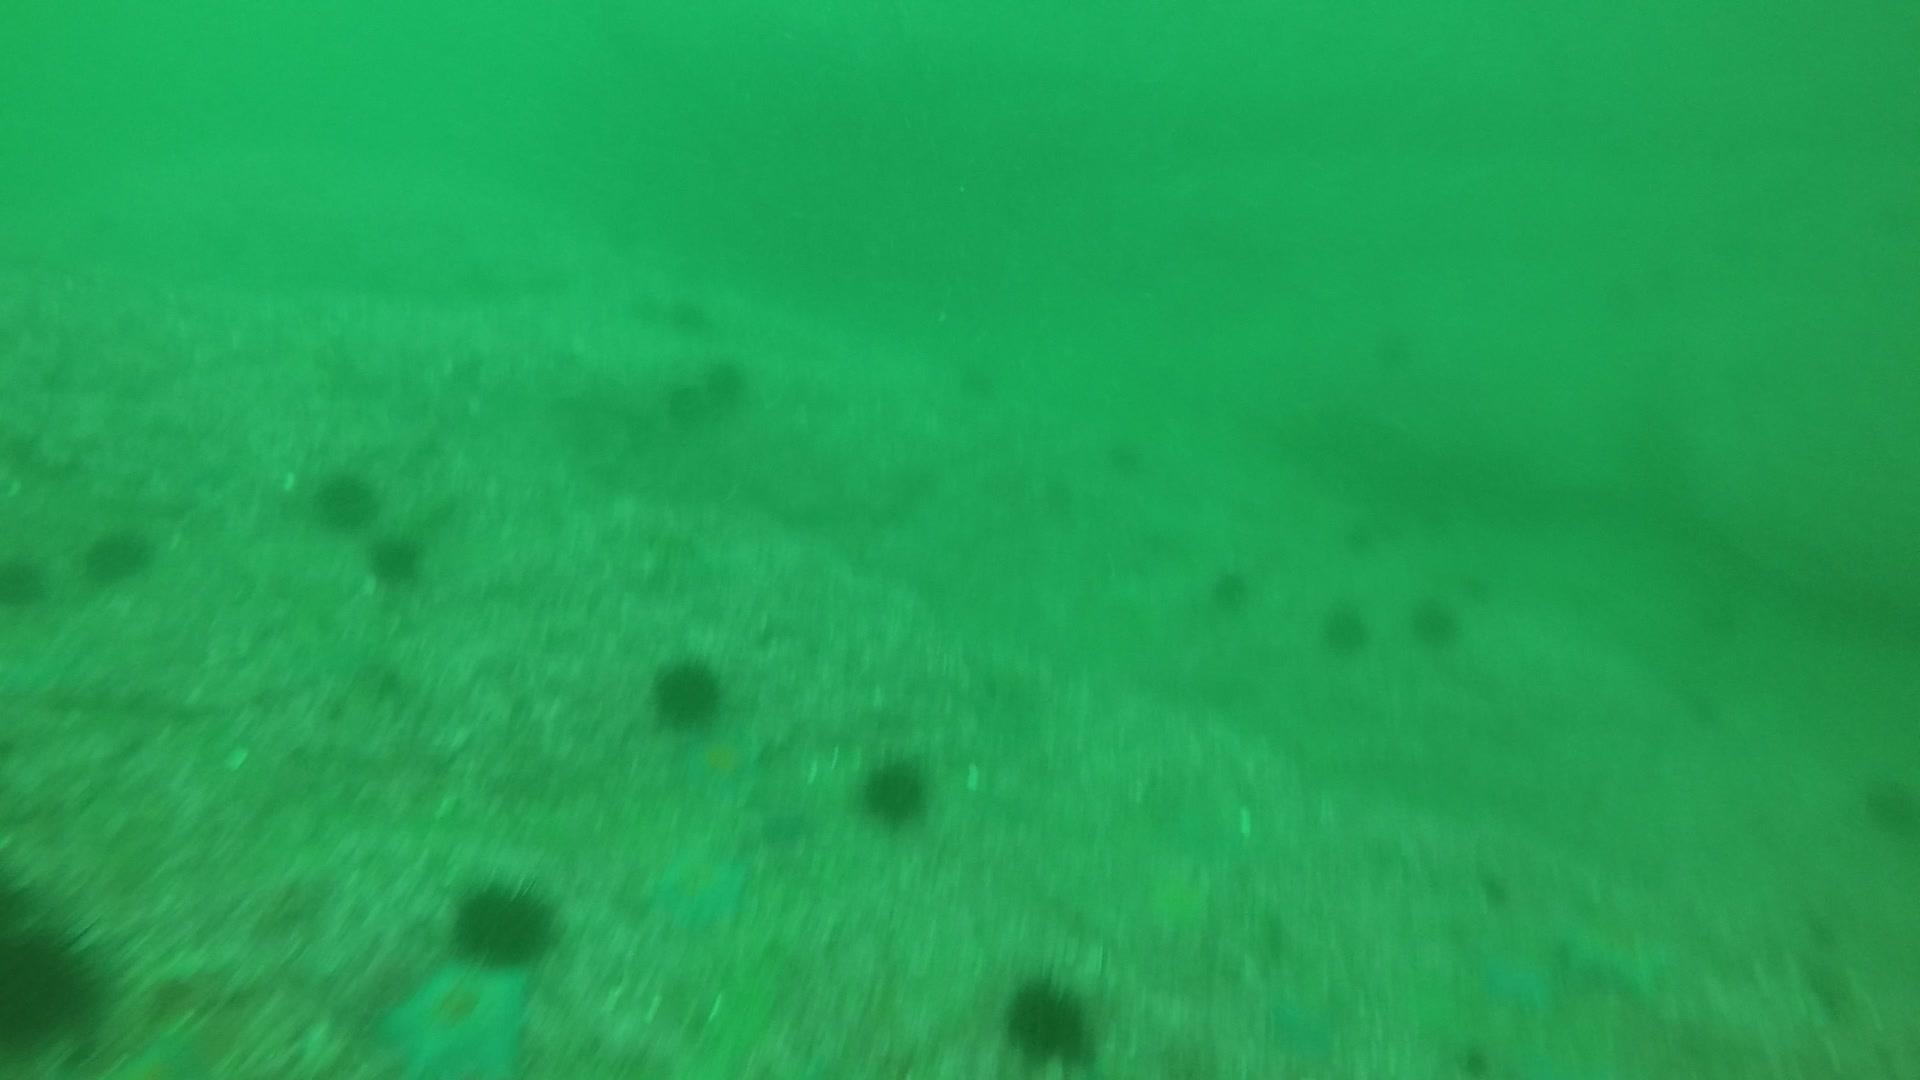echinus: (1, 909, 103, 1048), (446, 872, 560, 971), (997, 968, 1102, 1069), (645, 651, 729, 732), (855, 749, 936, 829), (309, 463, 382, 533), (79, 521, 157, 587), (1855, 766, 1919, 843), (364, 529, 429, 589), (1406, 591, 1466, 650), (1315, 597, 1373, 658), (1, 547, 51, 613), (944, 359, 1004, 414), (694, 353, 753, 407), (1033, 469, 1092, 524), (1204, 560, 1257, 615), (673, 307, 732, 345), (665, 381, 715, 425), (1102, 436, 1149, 481), (1367, 335, 1414, 380), (1590, 282, 1636, 327), (626, 294, 669, 328), (1452, 576, 1491, 611)
starfish: (375, 957, 537, 1077), (640, 835, 756, 938), (1560, 903, 1680, 1000), (1258, 976, 1352, 1072), (1472, 930, 1567, 1017), (109, 1011, 231, 1075), (676, 723, 764, 802)
